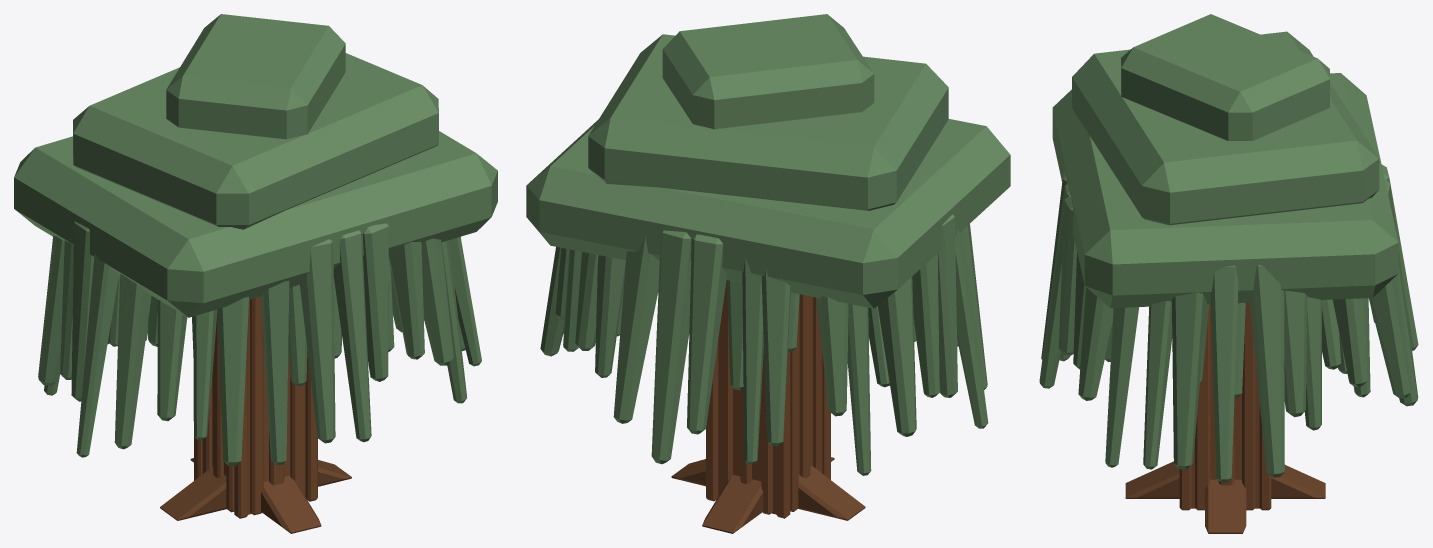
Rendered from Willow1.fbx.
The picture shows the model from 3 angles, left to right: view 1: azimuth 30°, elevation 25°; view 2: azimuth 150°, elevation 25°; view 3: azimuth 270°, elevation 25°; orthographic projection.
Visible parts, largest first — view 1: Leaves, LeafBlock_5, LeafBlock_4, Trunk, LeafBlock_6, LeafBlock_3, Root_3, Root_2, Root_4; view 2: Leaves, LeafBlock_2, LeafBlock_3, Trunk, LeafBlock_1, LeafBlock_4, Root_1, Root_2, Root_4; view 3: Leaves, LeafBlock_6, LeafBlock_1, Trunk, LeafBlock_5, LeafBlock_2, Root_4, Root_3, Root_1.
Boxes of the visible parts, box(x1,y1,x2,y2) form: Leaves: box(14, 14, 497, 317); LeafBlock_5: box(261, 223, 424, 465); LeafBlock_4: box(71, 221, 249, 466); Trunk: box(194, 296, 317, 518); LeafBlock_6: box(391, 236, 481, 403); LeafBlock_3: box(38, 236, 120, 395); Root_3: box(261, 475, 321, 533); Root_2: box(160, 466, 226, 520); Root_4: box(318, 460, 351, 486); Leaves: box(526, 14, 1010, 308); LeafBlock_2: box(613, 230, 790, 464); LeafBlock_3: box(787, 253, 939, 475); Trunk: box(706, 280, 830, 518); LeafBlock_1: box(540, 247, 625, 377); LeafBlock_4: box(913, 214, 988, 428); Root_1: box(702, 474, 763, 533); Root_2: box(798, 466, 865, 520); Root_4: box(671, 459, 705, 486); Leaves: box(1052, 14, 1398, 308); LeafBlock_6: box(1078, 265, 1238, 482); LeafBlock_1: box(1234, 265, 1370, 477); Trunk: box(1179, 302, 1271, 510); LeafBlock_5: box(1039, 170, 1112, 388); LeafBlock_2: box(1369, 164, 1418, 406); Root_4: box(1205, 479, 1246, 533); Root_3: box(1125, 461, 1179, 498); Root_1: box(1271, 465, 1325, 498).
Size of the model in its own units: 16.19 by 16.9 by 13.23.
